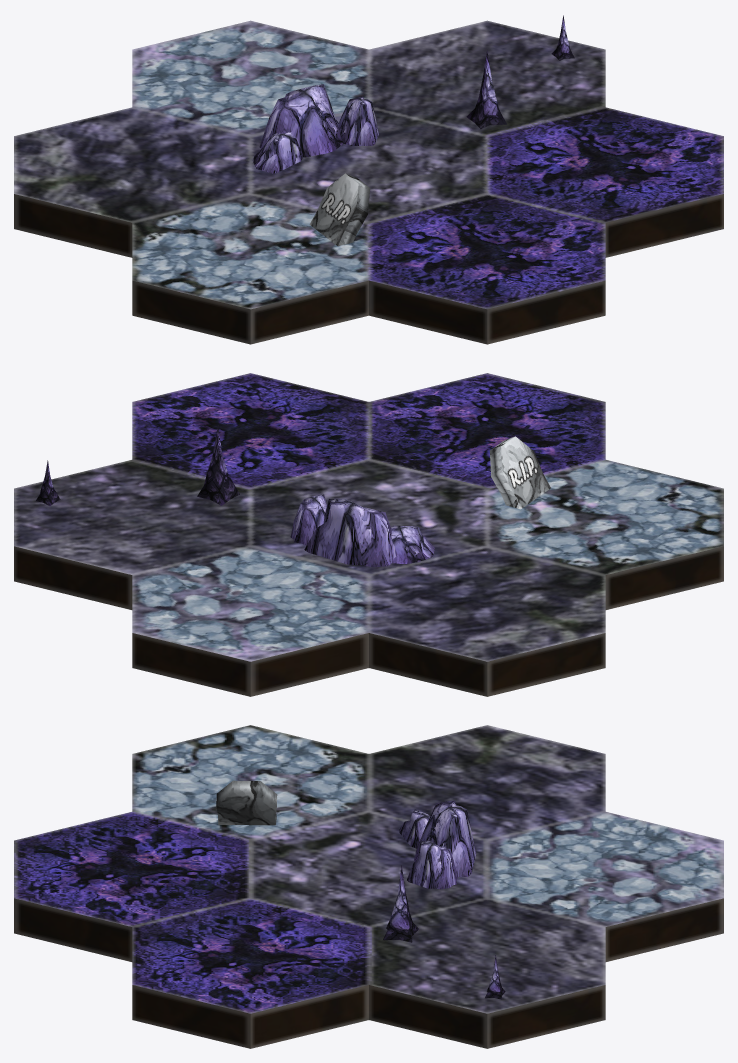
The model's file is Tile_Underworld2.fbx.
The picture shows the model from 3 angles, top to bottom: view 1: azimuth 30°, elevation 25°; view 2: azimuth 150°, elevation 25°; view 3: azimuth 270°, elevation 25°; orthographic projection.
Parts seen in each view (by area): view 1: desertTile1, Mountain1, Gravestone1, Mountain5, Mountain6, pCylinder14; view 2: desertTile1, Mountain1, Gravestone1, pCylinder14, Mountain6, Mountain5; view 3: desertTile1, Mountain1, Gravestone1, Mountain5, pCylinder14, Mountain6.
Boxes of the visible parts, bbox=[...] form: desertTile1: bbox=[14, 20, 723, 344]; Mountain1: bbox=[259, 84, 343, 157]; Gravestone1: bbox=[309, 173, 370, 246]; Mountain5: bbox=[338, 96, 378, 145]; Mountain6: bbox=[253, 132, 302, 173]; pCylinder14: bbox=[466, 49, 506, 129]; desertTile1: bbox=[14, 373, 723, 696]; Mountain1: bbox=[304, 498, 397, 567]; Gravestone1: bbox=[489, 436, 550, 509]; pCylinder14: bbox=[197, 425, 239, 505]; Mountain6: bbox=[391, 525, 434, 563]; Mountain5: bbox=[290, 494, 326, 545]; desertTile1: bbox=[14, 725, 723, 1048]; Mountain1: bbox=[414, 800, 476, 876]; Gravestone1: bbox=[216, 780, 277, 825]; Mountain5: bbox=[407, 841, 458, 889]; pCylinder14: bbox=[383, 865, 418, 942]; Mountain6: bbox=[399, 809, 430, 848].
Size of the model in its own units: 128 by 22.02 by 133.
